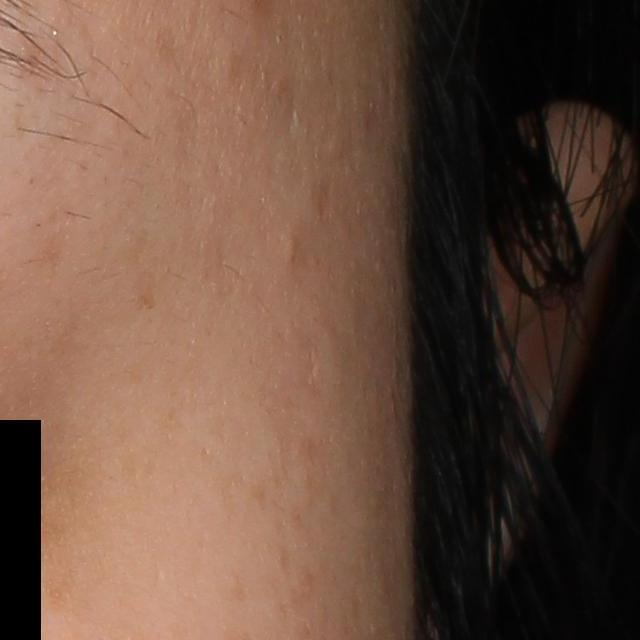comedo: (281, 231, 302, 269)
